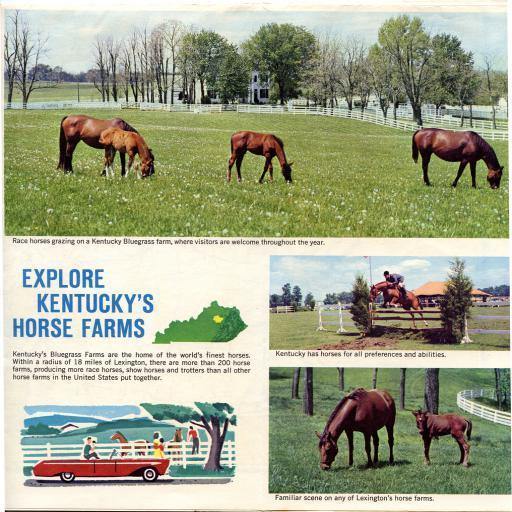horse: (318, 385, 398, 473), (56, 115, 156, 177), (412, 128, 506, 190), (412, 406, 472, 468), (226, 132, 294, 184), (370, 280, 430, 328), (98, 126, 152, 179), (110, 431, 151, 457)
